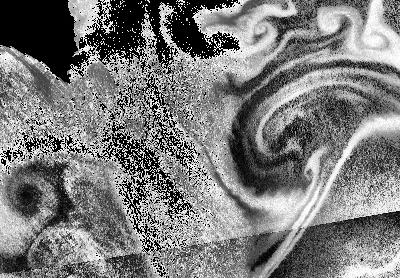CE: (7, 172, 59, 221), (363, 25, 393, 51), (320, 7, 345, 34), (255, 22, 270, 37)
